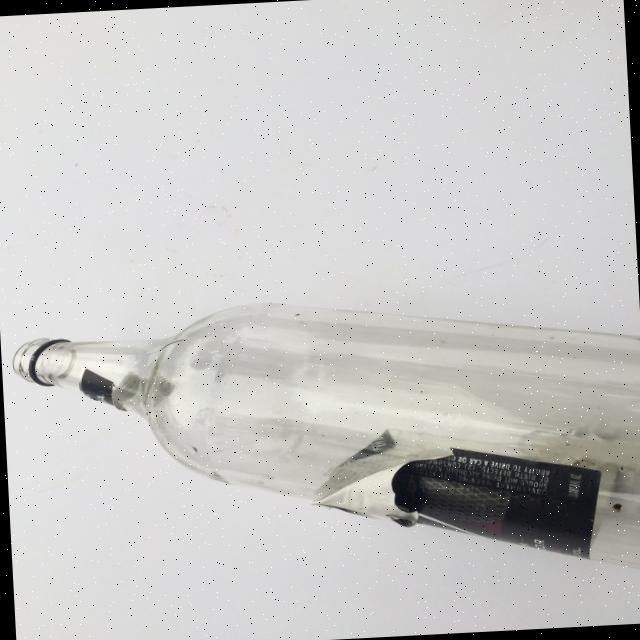glass: (9, 281, 640, 605)
